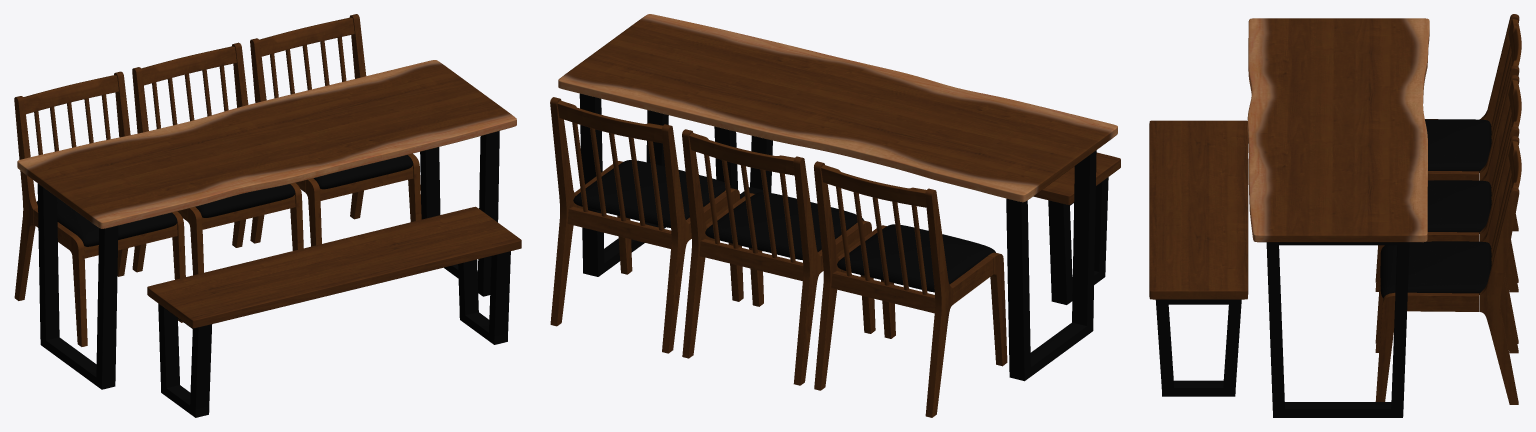
Rendered from MEGA_PACK_Tableset__tableset_539495.glb.
3 views of the same model, side by side, from view 1: azimuth 30°, elevation 25°; view 2: azimuth 150°, elevation 25°; view 3: azimuth 270°, elevation 25° (orthographic). The views are drawn at different scales.
Parts seen in each view (by area): view 1: tableset_539495; view 2: tableset_539495; view 3: tableset_539495.
Boxes of the visible parts, x1,y1,x2,y2 form: tableset_539495: [14, 14, 521, 417]; tableset_539495: [550, 14, 1120, 417]; tableset_539495: [1149, 14, 1521, 417].
Bounding box in the file's own units: 1.8 × 0.8257 × 1.3.
Materials: 1 (1 with a texture image).
